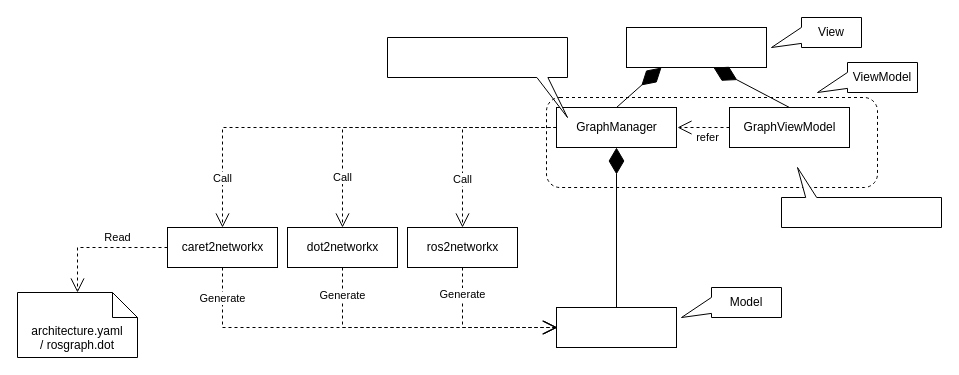
Image size: 959x375. Some labels were removed from this diagram. The shapes that lost their labels are listed below. From the top down, each one's box as (x1, y1, x2, y2) in pixels, then its label:
(626, 26, 766, 68): NetworkX2DearPyGui
(386, 36, 568, 118): Contains a graph and bindings to GUI components
(780, 166, 942, 228): Updates GUI components
(556, 306, 676, 348): graph : NetworkX
